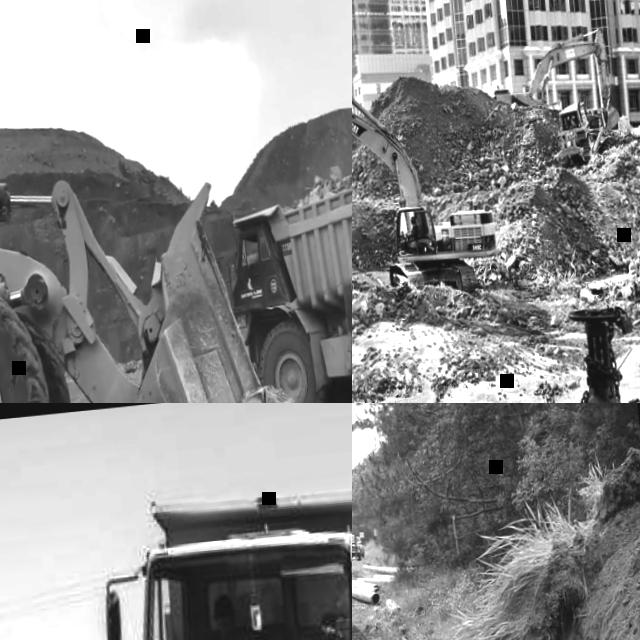NO-Hardhat: (212, 593, 232, 617), (409, 216, 415, 222)
NO-Safety Vest: (209, 625, 247, 640)
Person: (200, 591, 253, 640), (405, 215, 417, 238), (567, 116, 575, 129)
Safety Vest: (569, 120, 576, 128)
vehicle: (0, 19, 303, 403), (47, 468, 352, 640), (352, 58, 501, 317), (216, 143, 352, 403), (487, 28, 621, 146), (548, 101, 606, 169), (352, 532, 364, 563)
